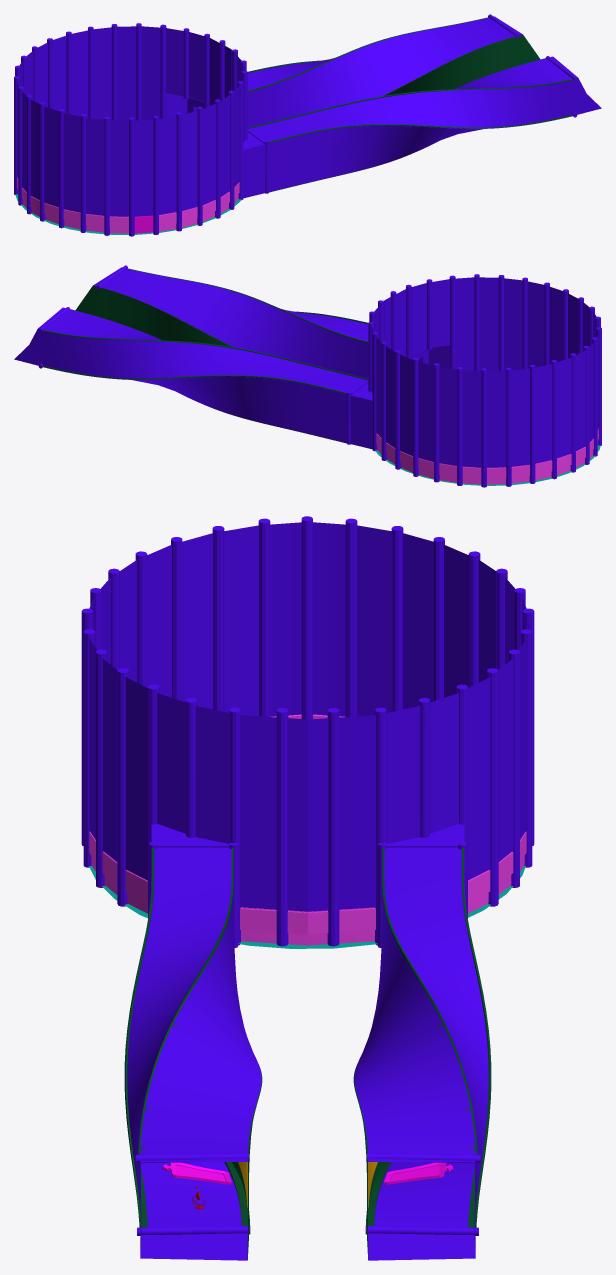
File: SM_ArchitectureV4.fbx
3 views of the same model, one above another, from view 1: azimuth 30°, elevation 25°; view 2: azimuth 150°, elevation 25°; view 3: azimuth 270°, elevation 25° (orthographic). The views are drawn at different scales.
Visible parts, largest first — view 1: polySurface1893; view 2: polySurface1893; view 3: polySurface1893.
Boxes of the visible parts, x1=… form: polySurface1893: x1=14, y1=14, x2=601, y2=236; polySurface1893: x1=14, y1=265, x2=601, y2=487; polySurface1893: x1=81, y1=516, x2=534, y2=1260.
Bounding box in the file's own units: 4546 × 1016 × 1669.
